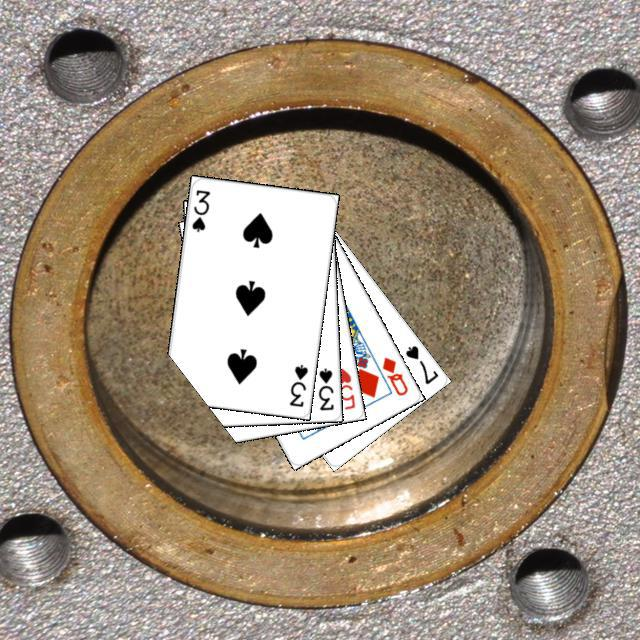3s: (284, 359, 309, 408), (187, 185, 211, 234), (314, 363, 335, 412)
5h: (331, 363, 357, 411)
7s: (400, 340, 440, 386)
Qd: (377, 352, 410, 398)
